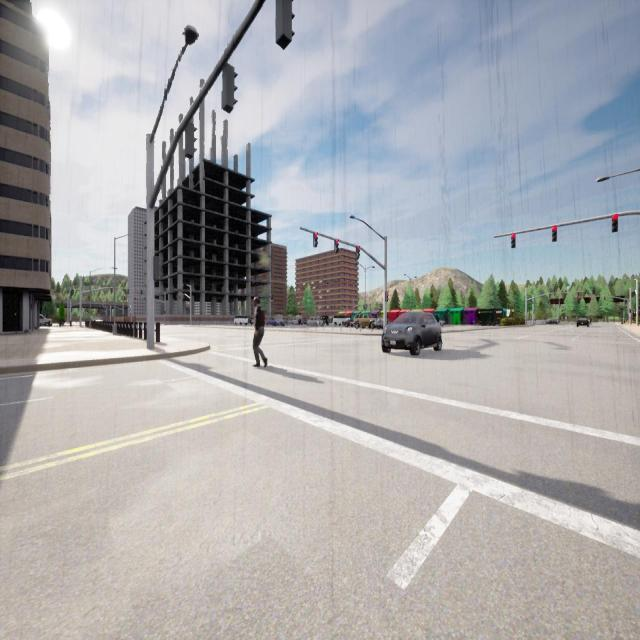Pedestrian: (252, 296, 266, 366), (590, 316, 592, 326)
Traffic_Signs: (565, 317, 567, 319)
Vehicle: (382, 312, 442, 354), (354, 314, 375, 328), (332, 315, 350, 326), (371, 318, 385, 329), (39, 315, 52, 326), (266, 319, 284, 326), (307, 318, 322, 326), (234, 316, 248, 324), (577, 317, 588, 327), (288, 318, 300, 325), (345, 320, 353, 328), (322, 316, 328, 325), (548, 321, 558, 325), (248, 318, 254, 324)
traffic_light: (276, 0, 295, 50), (222, 64, 238, 114), (186, 125, 197, 159), (154, 256, 159, 280), (612, 215, 618, 232), (552, 226, 557, 242), (314, 232, 318, 246), (511, 234, 515, 248), (356, 246, 360, 258), (335, 240, 338, 252), (386, 291, 388, 302), (629, 309, 631, 313), (578, 296, 580, 299), (134, 297, 136, 300), (164, 311, 166, 314), (604, 296, 605, 300), (590, 296, 592, 298), (125, 296, 126, 299)
